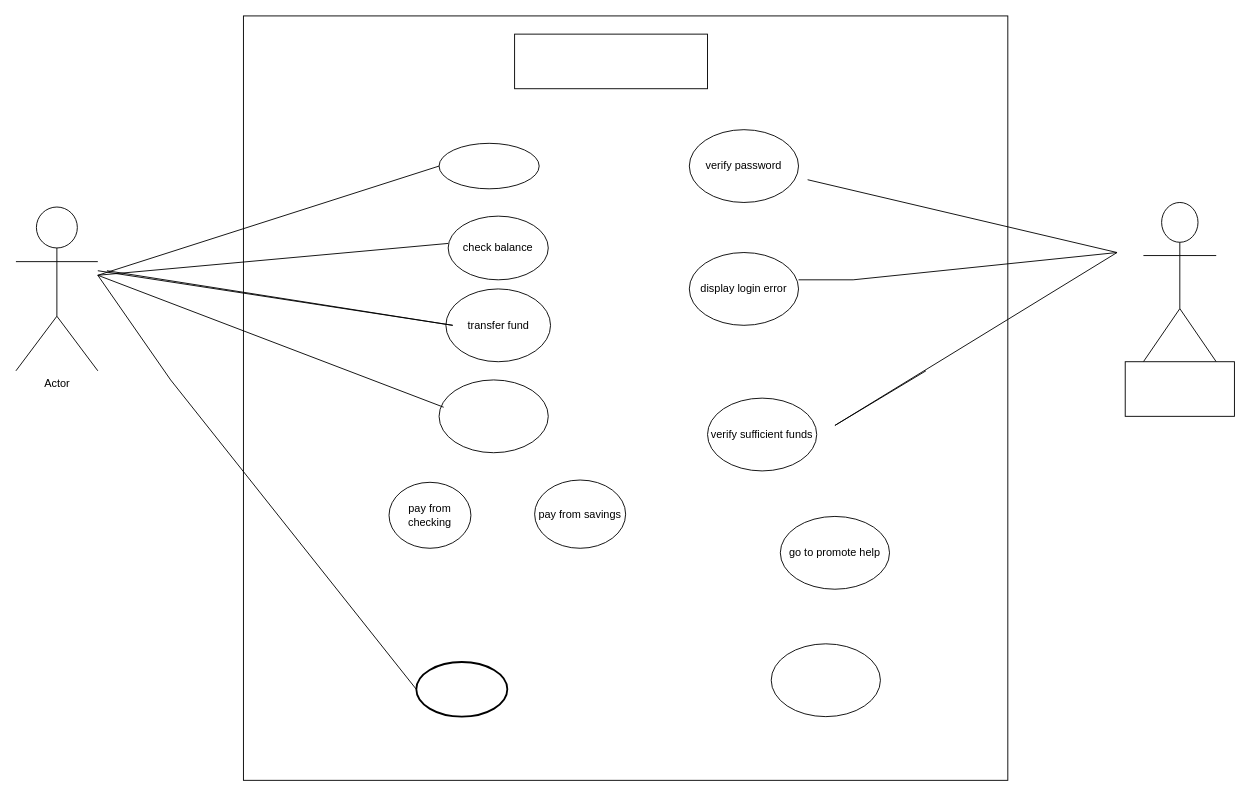
Image size: 1250x796. Some labels were removed from this diagram. The centre of each missing label's shape, as x and y in pixels:
"Bank" goes at (1179,388).
"Banking App" goes at (611,61).
"log in" goes at (488,165).
"make payment" goes at (493,416).
